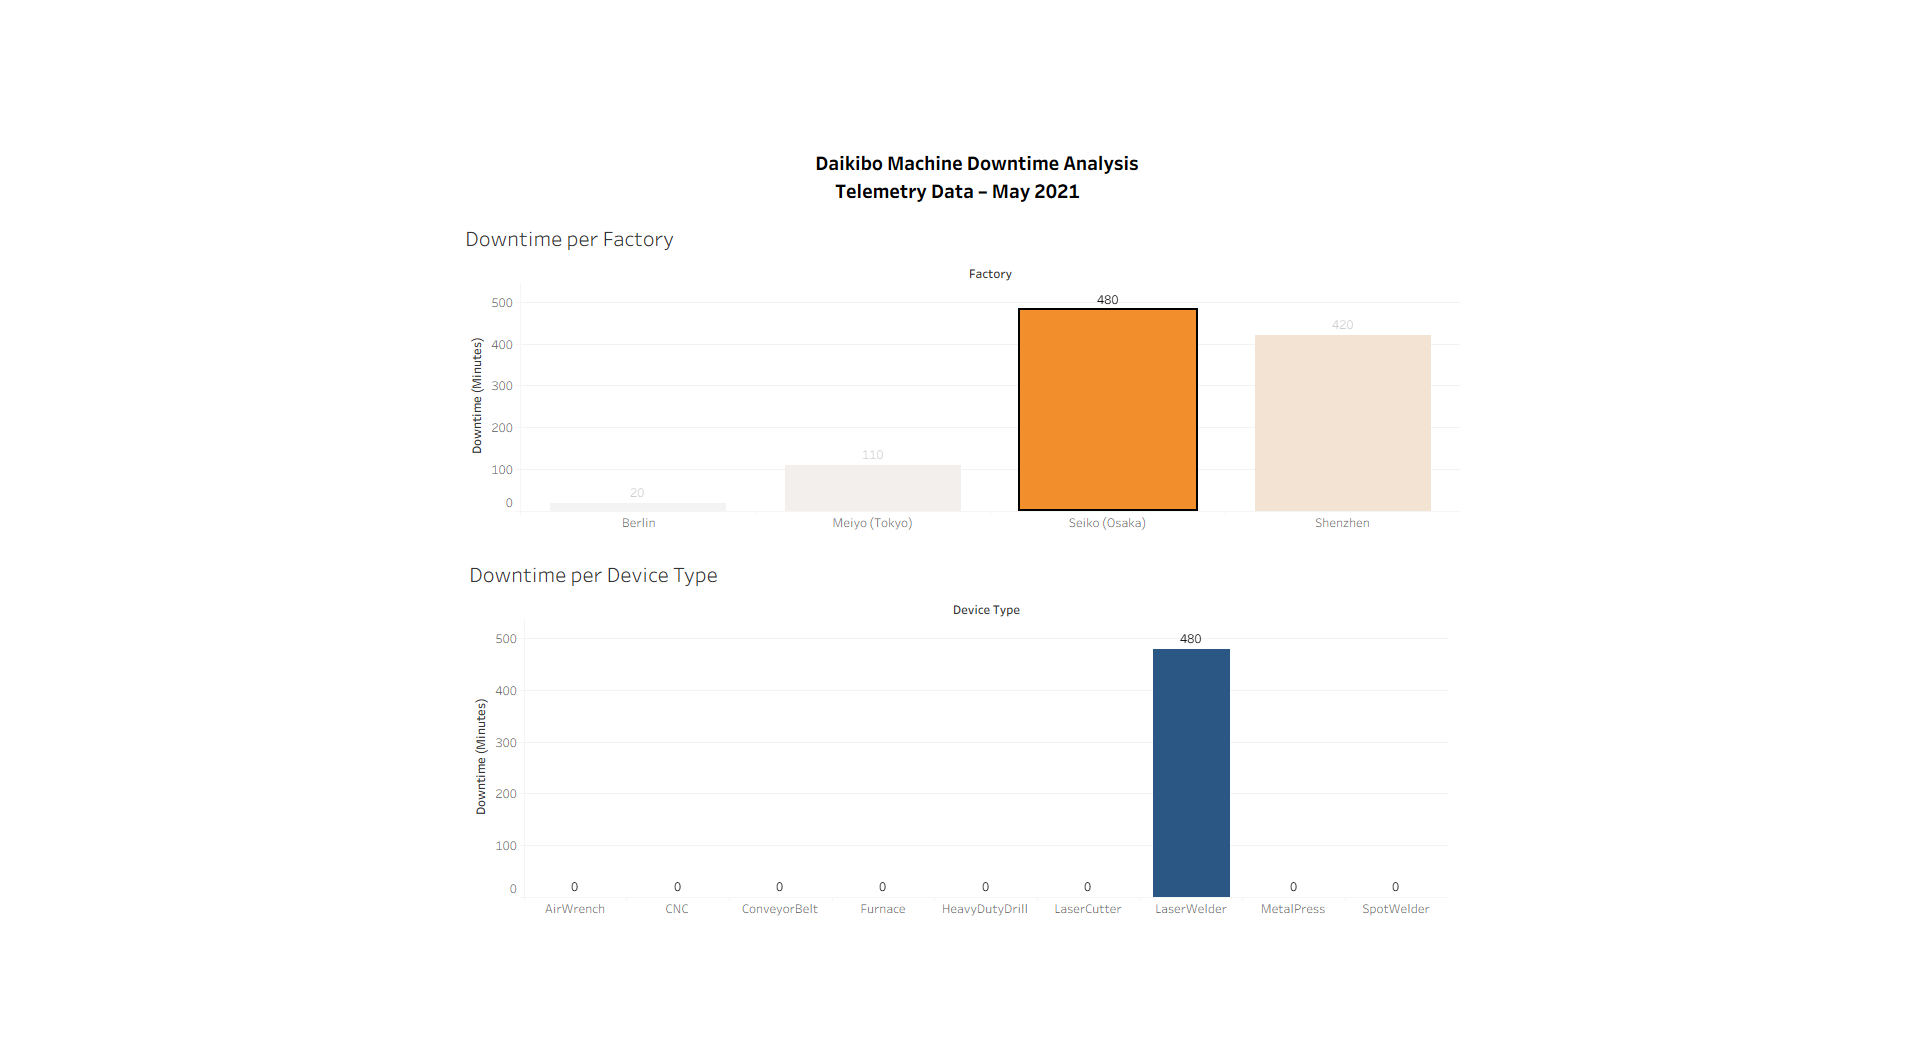

The dashboard page shown, as its layout file describes it:
{"tool":"tableau","page":{"name":"Dashboard 1","canvas":[1000,800],"ordinal":0},"visuals":[{"type":"text","box":[305.1,8,385.1,85.7]},{"type":"worksheet","title":"Downtime per Factory","mark":"Automatic","rows":["Calculation_0209776861614080"],"cols":["factory"],"box":[1,99,999,331]},{"type":"worksheet","title":"Downtime per Device Type","mark":"Automatic","rows":["Calculation_0209776861614080"],"cols":["deviceType"],"box":[5,435,983,362]}]}

Visuals, with their boxes on the page's 1000x800 design canvas (x1, y1, x2, y2). These are canvas units, not pixel positions in the 1919x1046 screenshot, which may show the page scaled, cropped or inside an application window:
text: box(305, 8, 690, 94)
"Downtime per Factory" worksheet: box(1, 99, 1000, 430)
"Downtime per Device Type" worksheet: box(5, 435, 988, 797)
